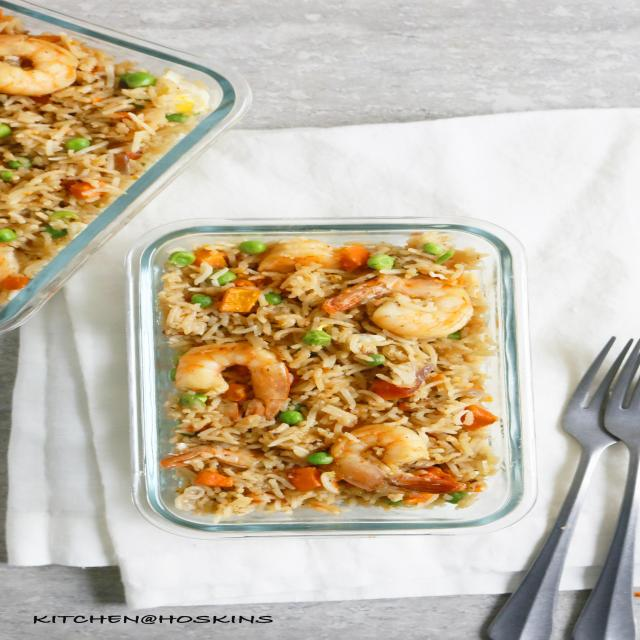Nasi Goreng: (155, 230, 501, 522)
